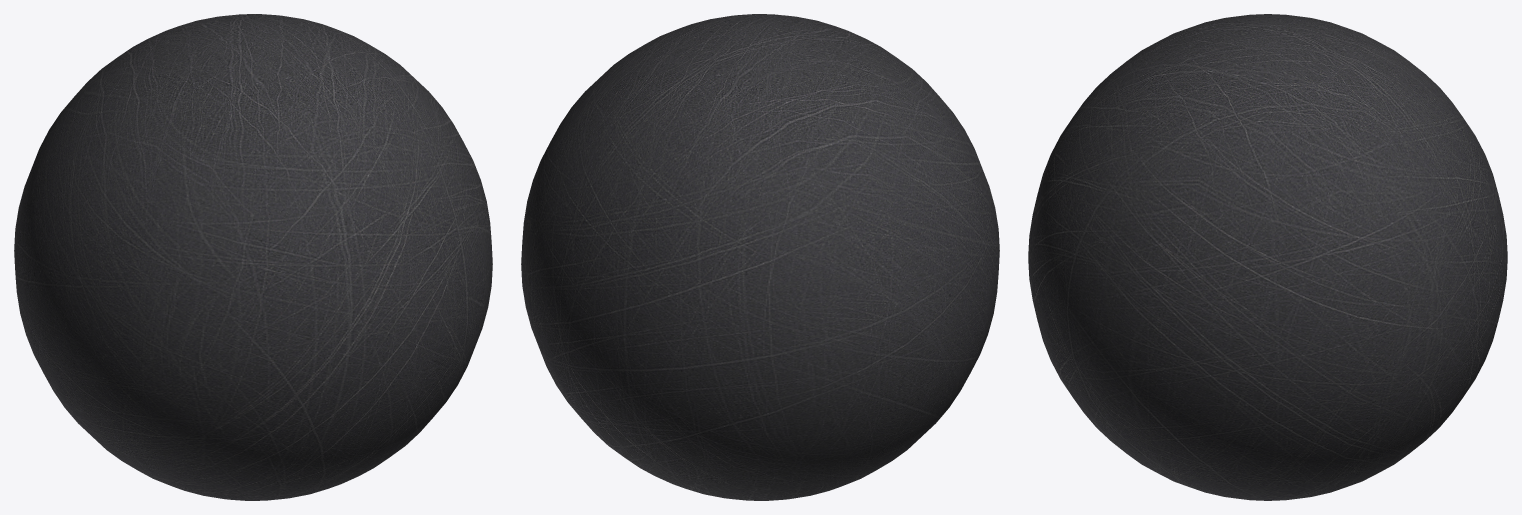
Rendered from Cannonball.fbx.
The picture shows the model from 3 angles, left to right: view 1: azimuth 30°, elevation 25°; view 2: azimuth 150°, elevation 25°; view 3: azimuth 270°, elevation 25°; orthographic projection.
Parts seen in each view (by area): view 1: Cannonball.Shape; view 2: Cannonball.Shape; view 3: Cannonball.Shape.
Boxes of the visible parts, x1,y1,x2,y2 form: Cannonball.Shape: (14, 14, 492, 500); Cannonball.Shape: (521, 14, 999, 500); Cannonball.Shape: (1028, 14, 1507, 500).
Size of the model in its own units: 8.52 by 8.71 by 8.52.
